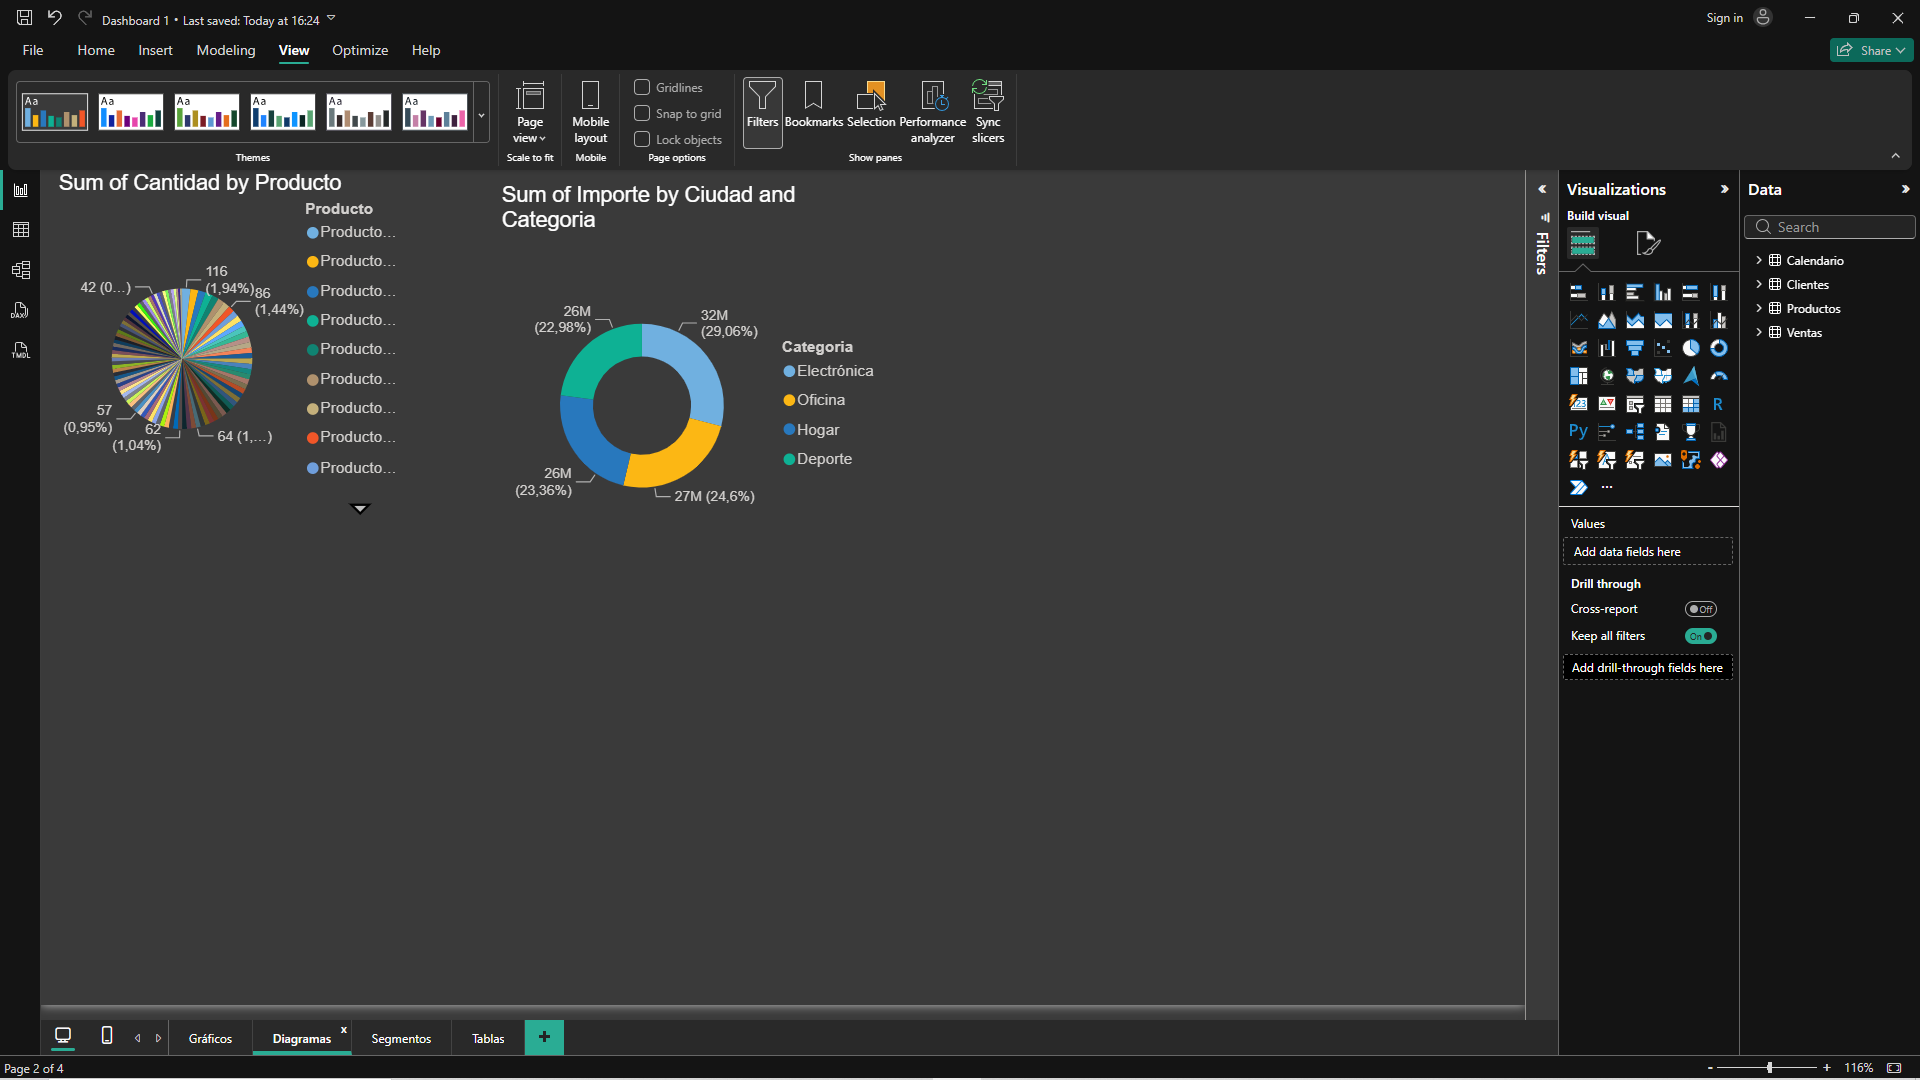

This screenshot's page, from the dashboard's own definition file:
{"tool":"powerbi","page":{"name":"Diagramas","canvas":[1280,720],"ordinal":1},"visuals":[{"type":"pieChart","fields":{"Y":["Sum(Ventas.Cantidad)"],"Category":["Productos.Producto"]},"box":[10,0,314.6,304.6],"z":0},{"type":"donutChart","fields":{"Y":["Sum(Ventas.Importe)"],"Category":["Clientes.Ciudad","Productos.Categoria"]},"box":[392.3,10,340.8,343.8],"z":1000}]}

Visuals, with their boxes on the page's 1280x720 design canvas (x1, y1, x2, y2). These are canvas units, not pixel positions in the 1920x1080 screenshot, which may show the page scaled, cropped or inside an application window:
pieChart - Sum(Ventas.Cantidad) x Productos.Producto: <region>10, 0, 325, 305</region>
donutChart - Sum(Ventas.Importe) x Clientes.Ciudad: <region>392, 10, 733, 354</region>
